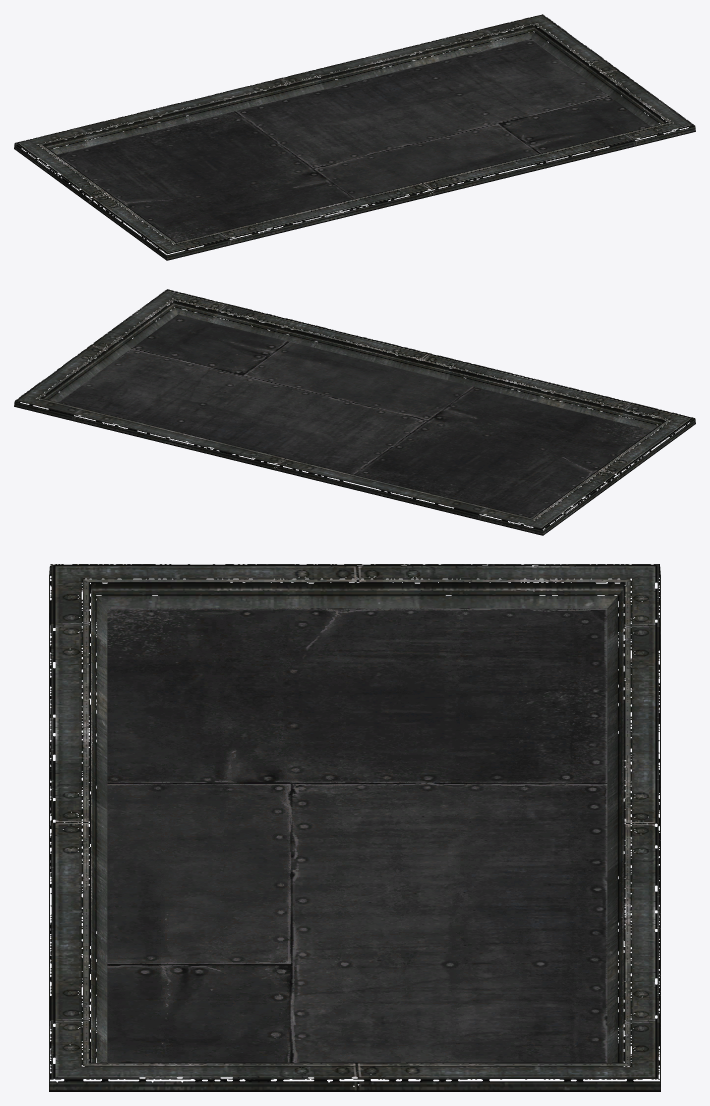
Rendered from tesla_modules1_ceiling_square_02.dae.
The picture shows the model from 3 angles, top to bottom: view 1: azimuth 30°, elevation 25°; view 2: azimuth 150°, elevation 25°; view 3: azimuth 270°, elevation 25°; orthographic projection. The views are drawn at different scales.
Visible parts, largest first — view 1: ceiling_square_04, ceiling_square_02_frame1; view 2: ceiling_square_04, ceiling_square_02_frame1; view 3: ceiling_square_04, ceiling_square_02_frame1.
Part boxes in pixels (box(x1,y1,x2,y2)): ceiling_square_04: box(57, 39, 654, 242); ceiling_square_02_frame1: box(14, 14, 695, 260); ceiling_square_04: box(58, 314, 651, 517); ceiling_square_02_frame1: box(14, 289, 695, 535); ceiling_square_04: box(107, 608, 607, 1073); ceiling_square_02_frame1: box(49, 564, 660, 1091).
Size of what is drawn, in the model's own units: 4.01 by 0.0676 by 2.01.
